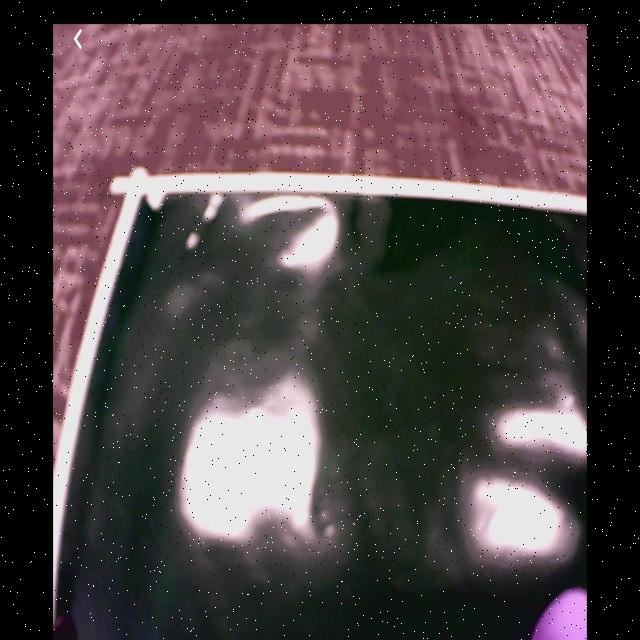ball: (535, 591, 588, 640)
